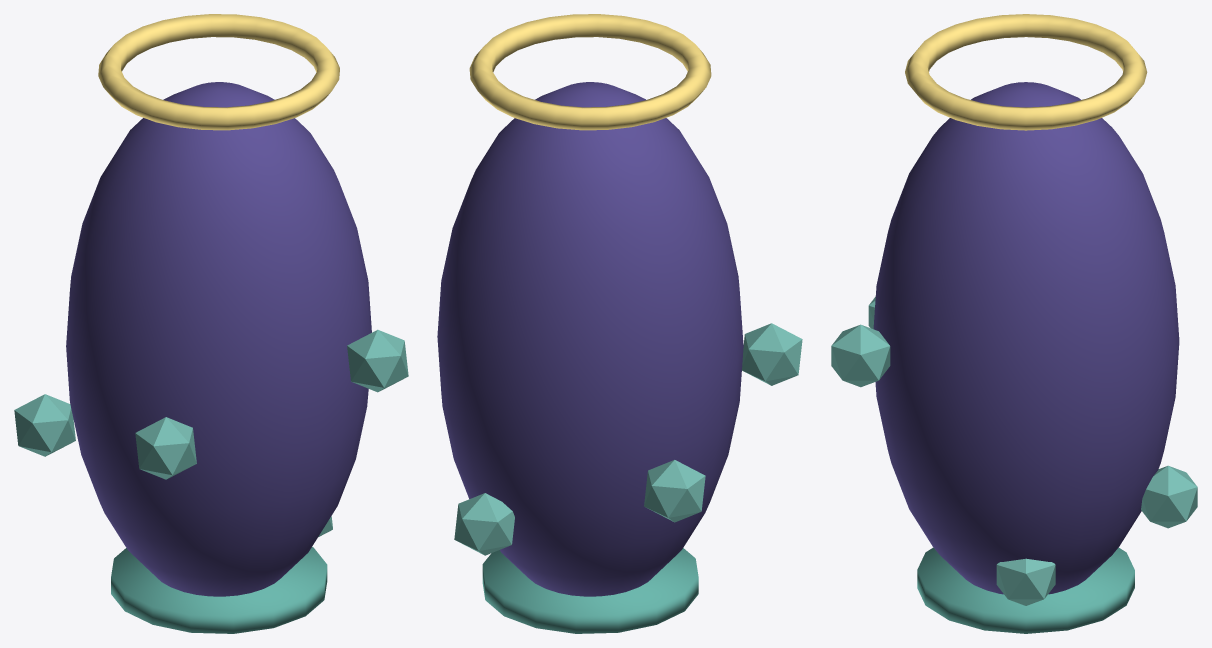
File: egg_deepsea_02.glb
The picture shows the model from 3 angles, left to right: view 1: azimuth 30°, elevation 25°; view 2: azimuth 150°, elevation 25°; view 3: azimuth 270°, elevation 25°; orthographic projection.
Parts seen in each view (by area): view 1: ball; view 2: ball; view 3: ball.
Boxes of the visible parts, x1=… form: ball: x1=14, y1=14, x2=408, y2=633; ball: x1=437, y1=14, x2=802, y2=633; ball: x1=831, y1=14, x2=1197, y2=633.
Size of the model in its own units: 0.6738 by 1.18 by 0.7404.
